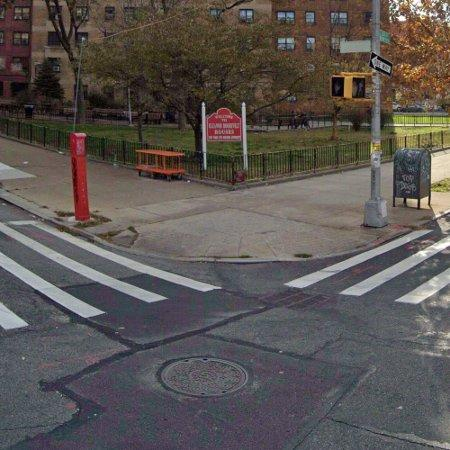crosswalks: (1, 218, 225, 335)
